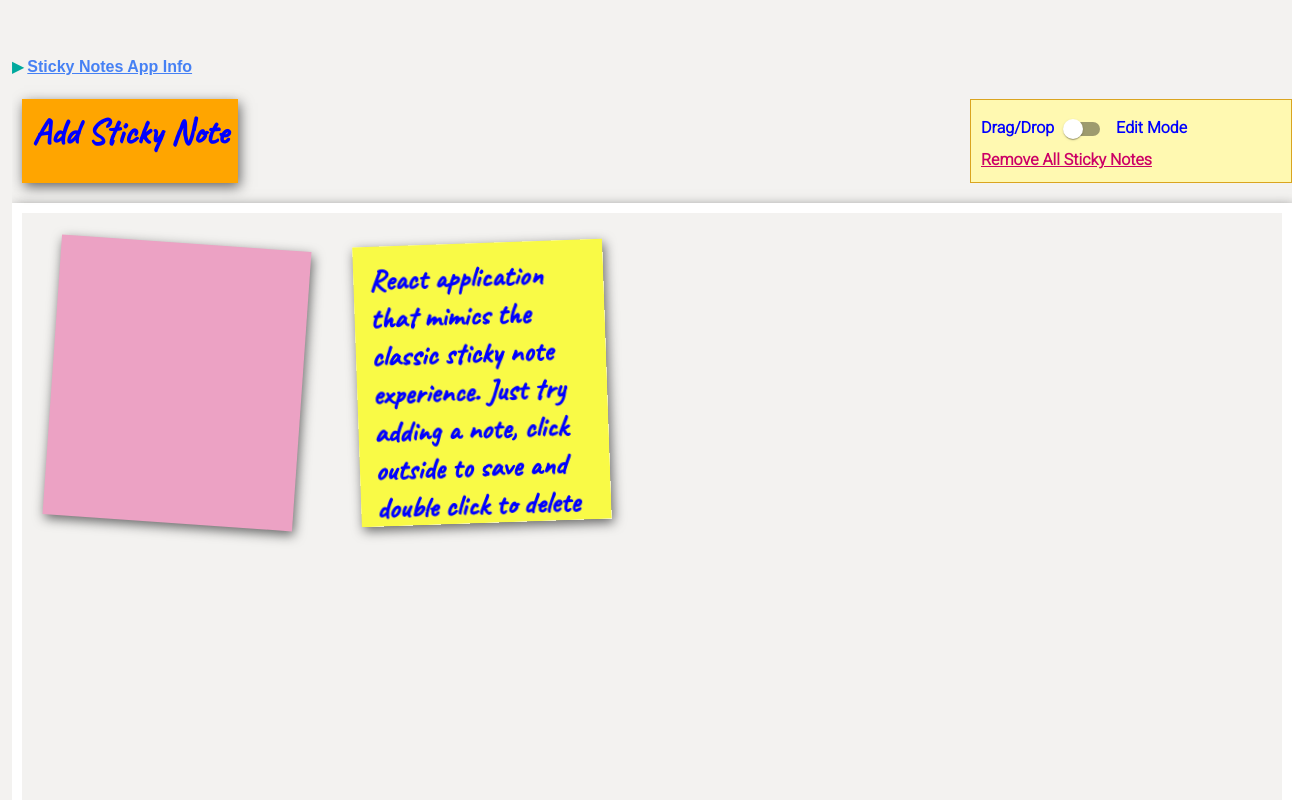
Delete a Sticky Note
Click the checkbox named "Edit Toggle": (1073, 129) [1063,119,1083,139]
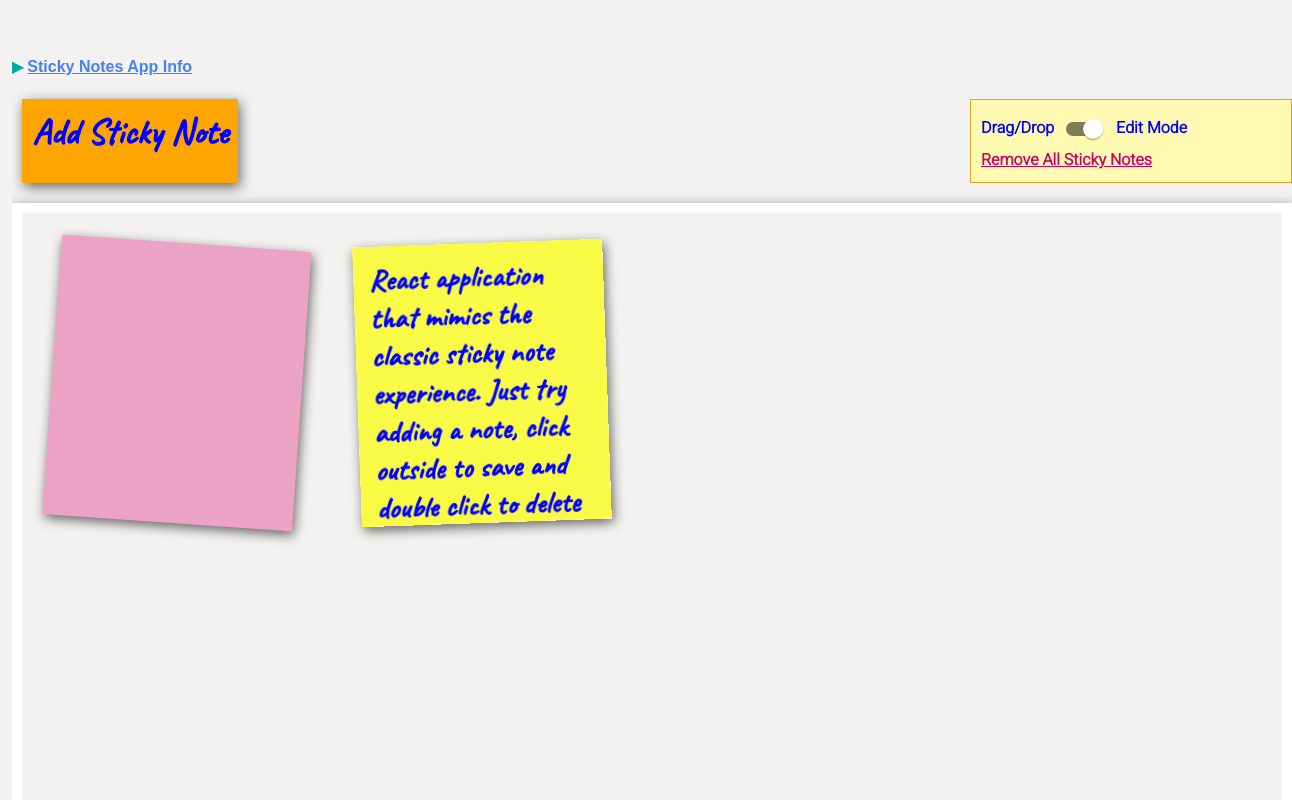
Click the text "Drag/Drop": (1018, 128) [981,116,1054,140]
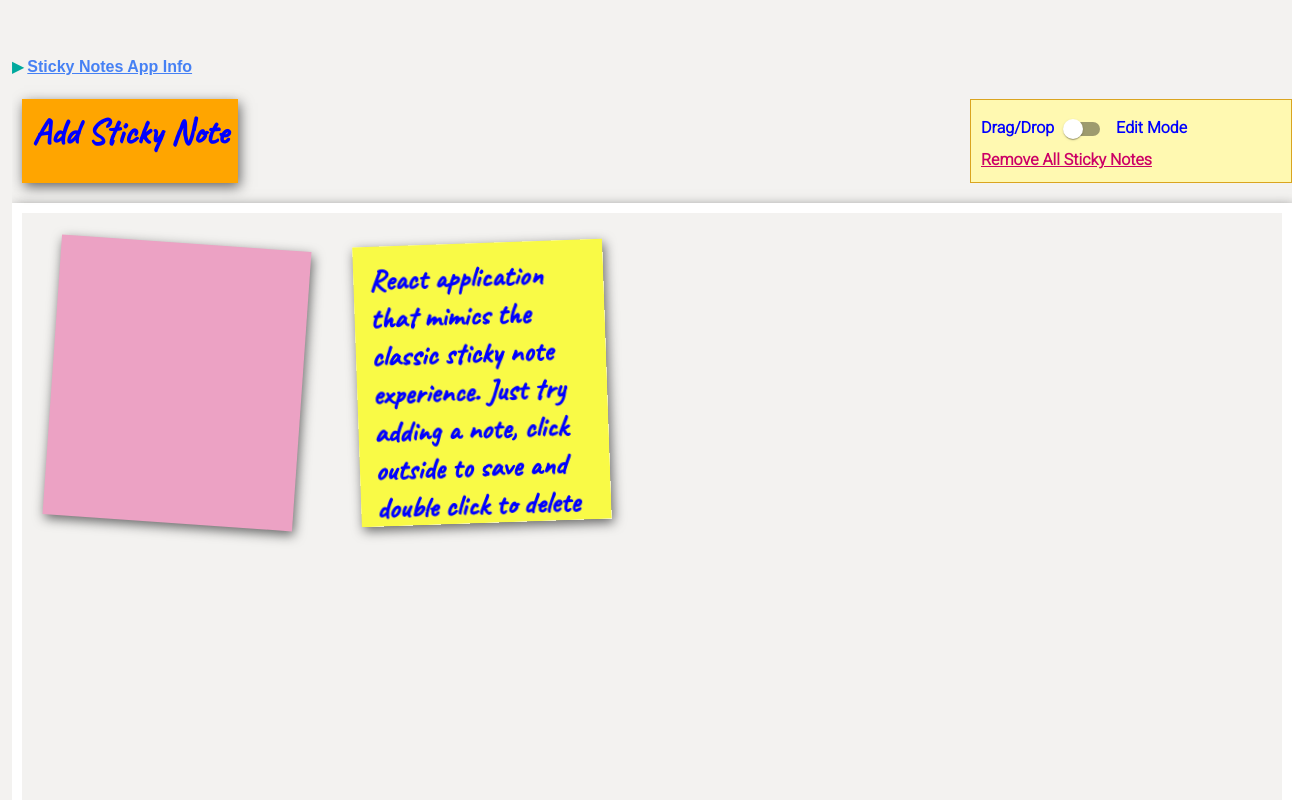
Double-click the element named "Mouse Left Button Down, Drag and Drop": (177, 383) [42,235,311,531]
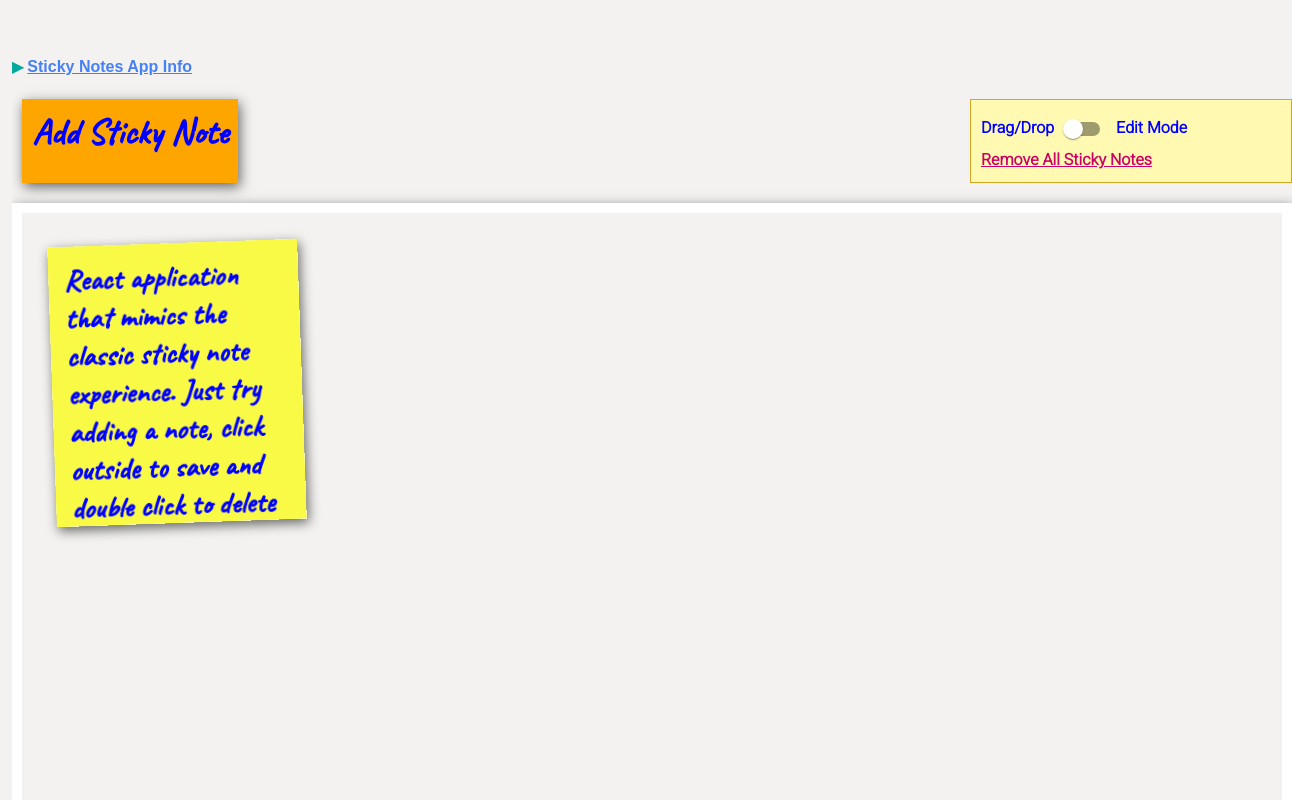
Double-click the text named "Mouse Left Button Down, Drag and Drop": (177, 383) [47,239,307,527]
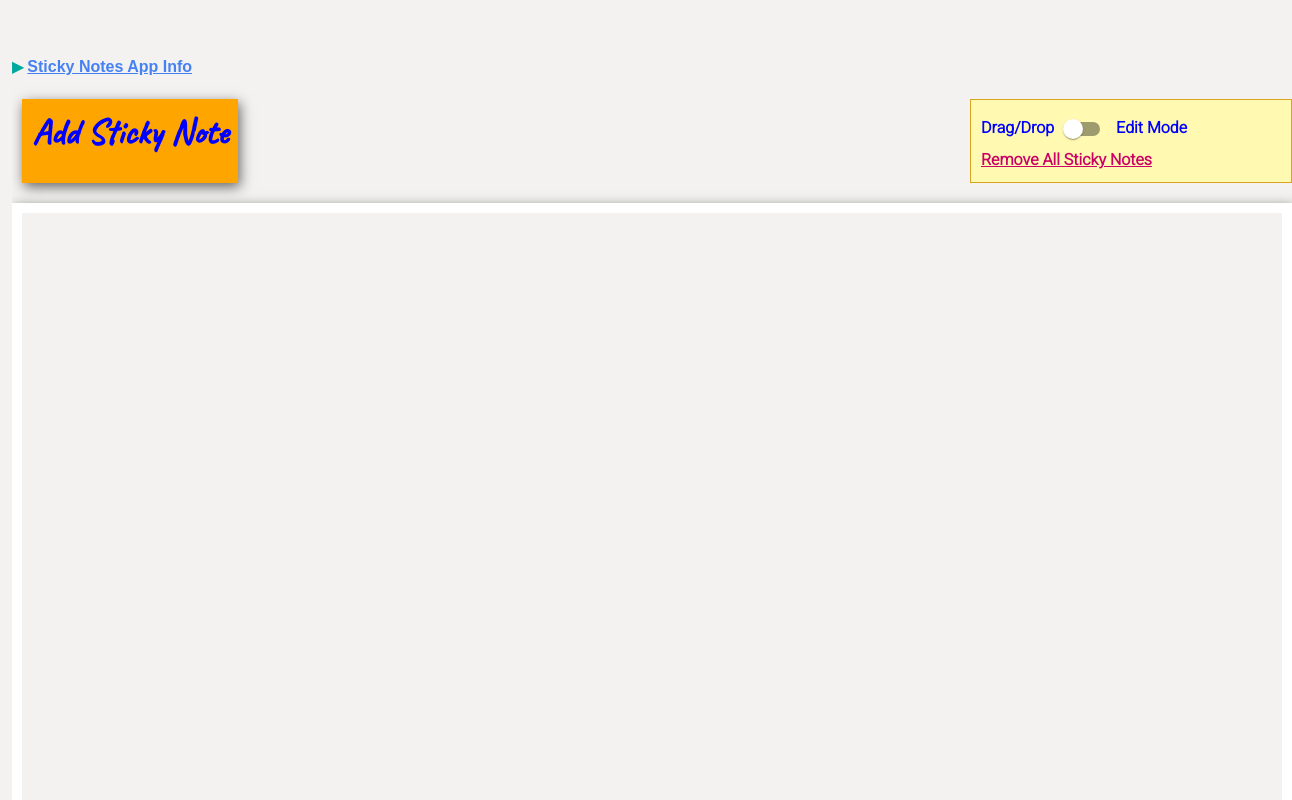
Click the button "Add Sticky Note": (130, 141) [22,99,238,183]
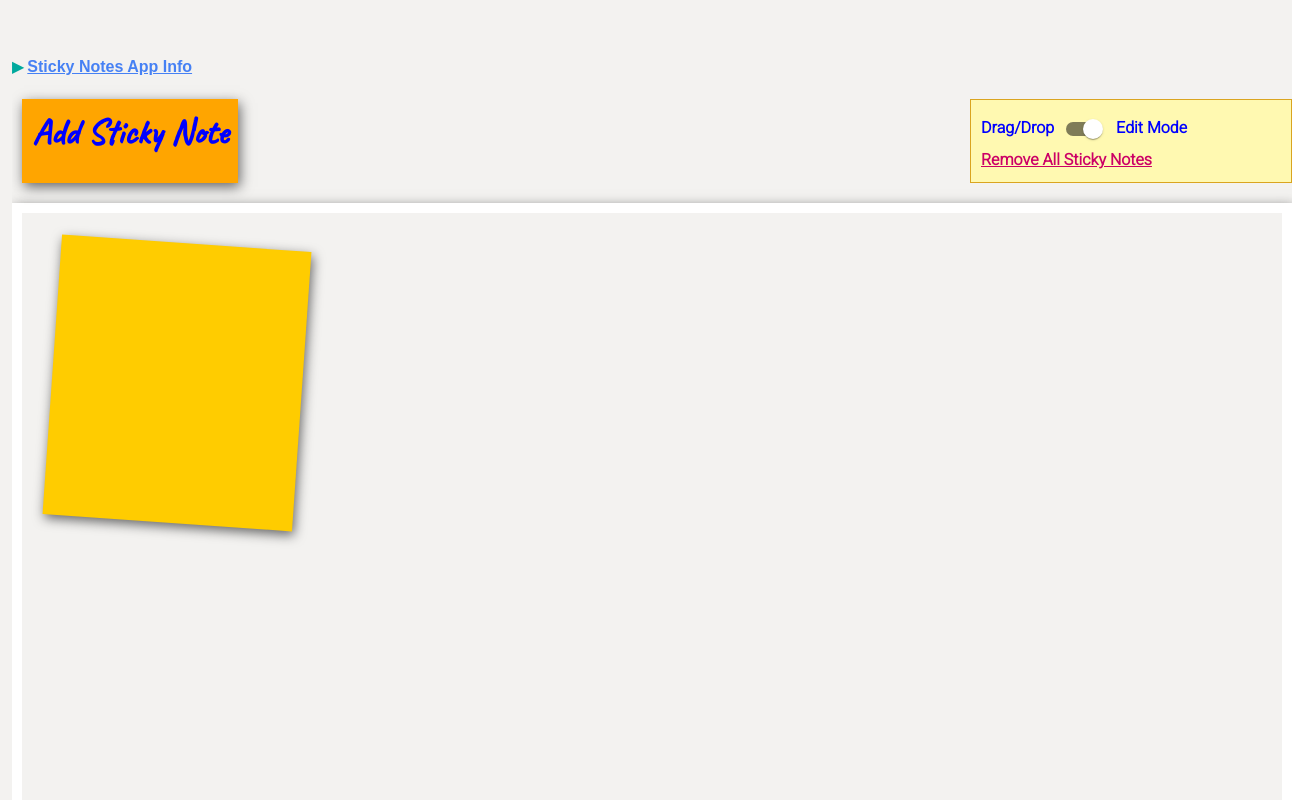
Now the number of text boxes is 1, box [42,235,311,531]
